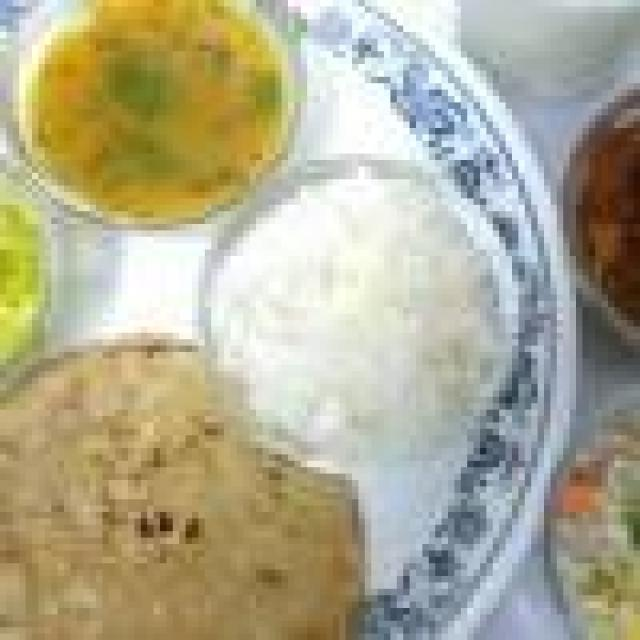dal: (29, 9, 281, 209)
